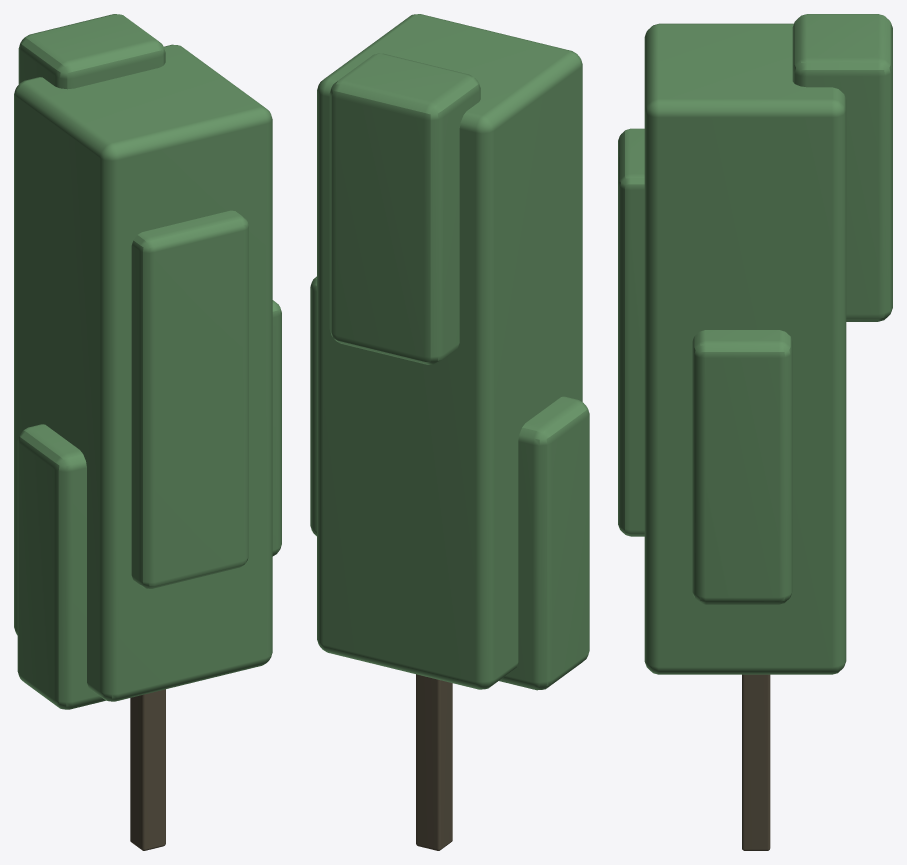
The model's file is Tree_009.fbx.
3 views of the same model, side by side, from view 1: azimuth 30°, elevation 25°; view 2: azimuth 150°, elevation 25°; view 3: azimuth 270°, elevation 25° (orthographic). The views are drawn at different scales.
Parts seen in each view (by area): view 1: tree_009; view 2: tree_009; view 3: tree_009.
Boxes of the visible parts, x1,y1,x2,y2 form: tree_009: (14,14,281,850); tree_009: (310,14,589,850); tree_009: (618,14,892,850).
Size of the model in its own units: 2.35 by 7.62 by 2.36.
